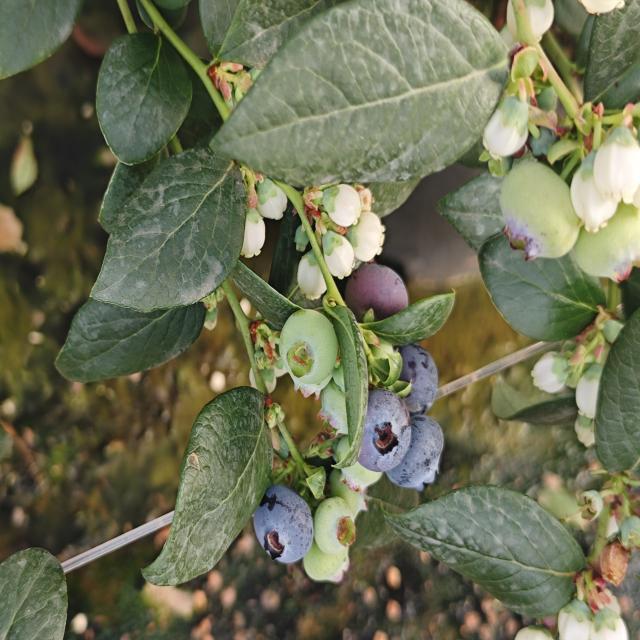ripe: (250, 482, 316, 568), (355, 386, 413, 476), (343, 261, 410, 325), (399, 412, 446, 501), (392, 352, 443, 410)
